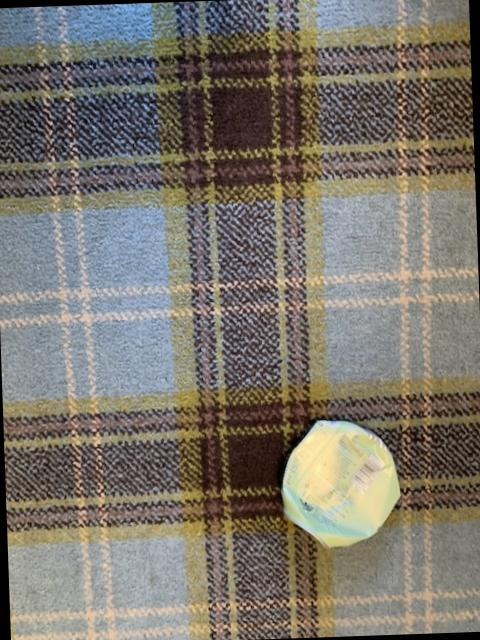metal: (282, 421, 400, 547)
